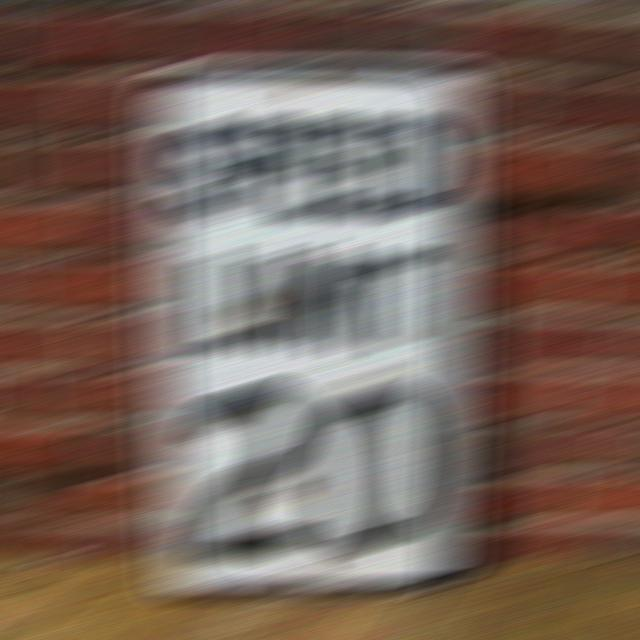speedLimit20: (139, 58, 470, 580)
